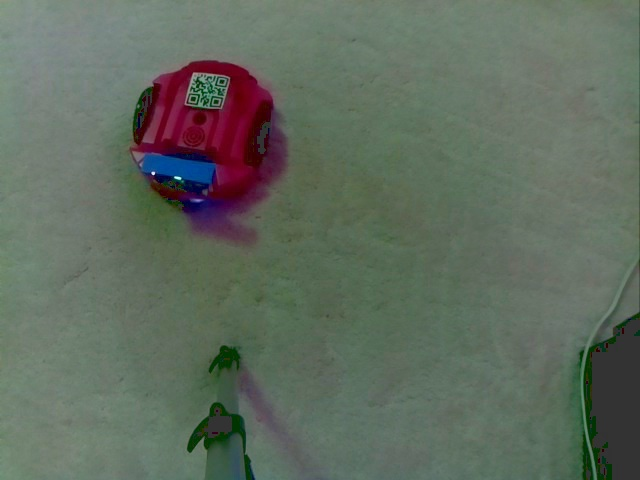board: (132, 140, 231, 204)
chassis: (128, 55, 283, 211)
